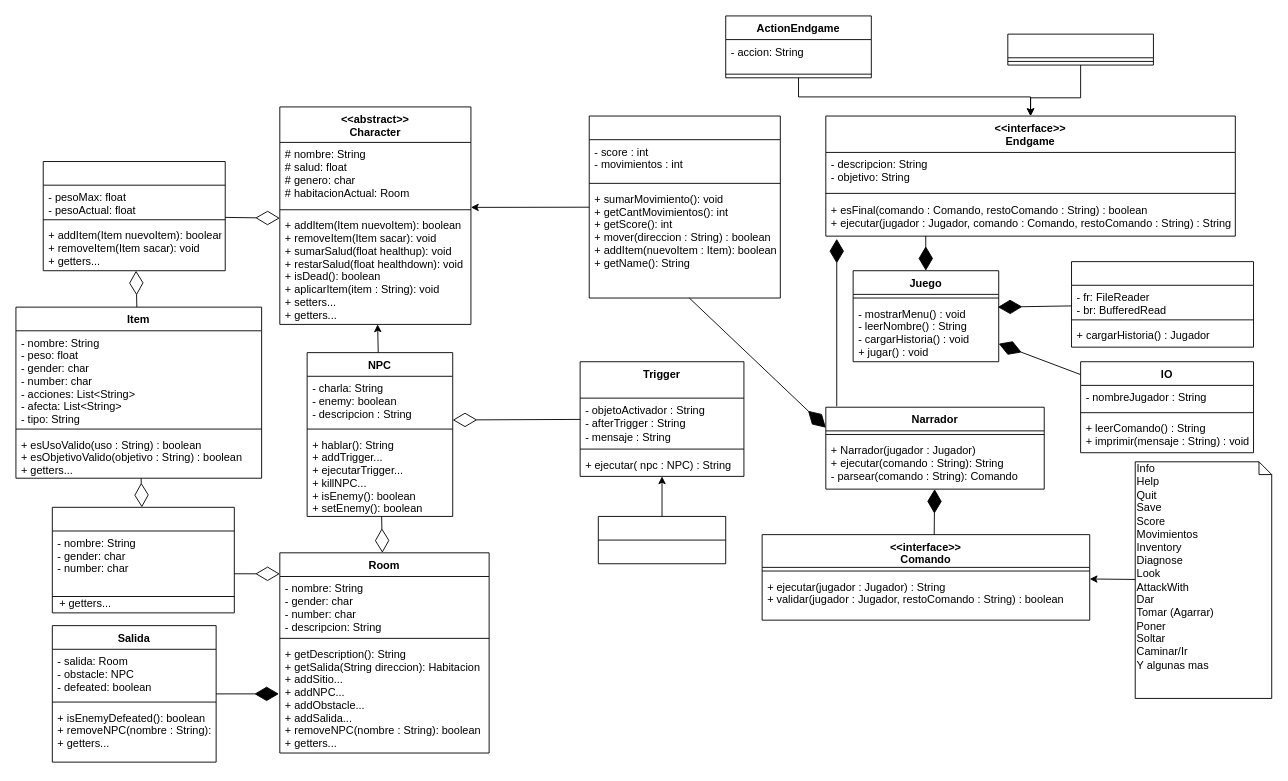
The diagram is 1288 pixels wide and 781 high, and some of its shapes have lost their labels. The box of each missing label's shape, as (x1, y1, x2, y2) in pixels:
CargadorDeHistoria: (1071, 261, 1254, 347)
Inventario: (42, 161, 225, 271)
Jugador: (588, 115, 780, 298)
LocationEndgame: (1007, 33, 1153, 65)
Sitio: (51, 506, 234, 613)
UsarItem: (597, 516, 726, 564)
